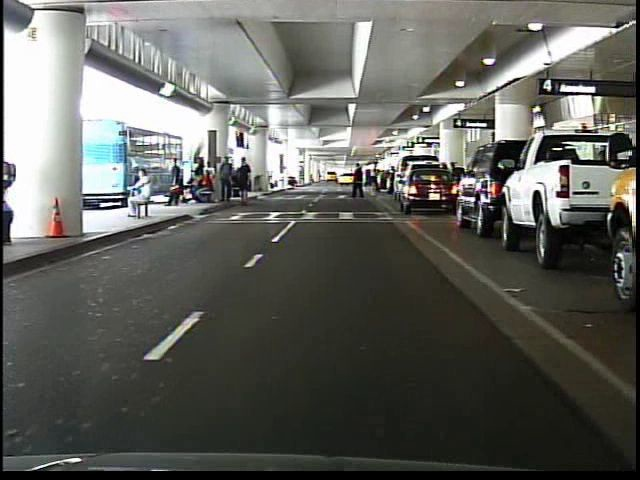person: (117, 167, 157, 223), (163, 156, 185, 210), (350, 160, 370, 204), (368, 160, 384, 197)
